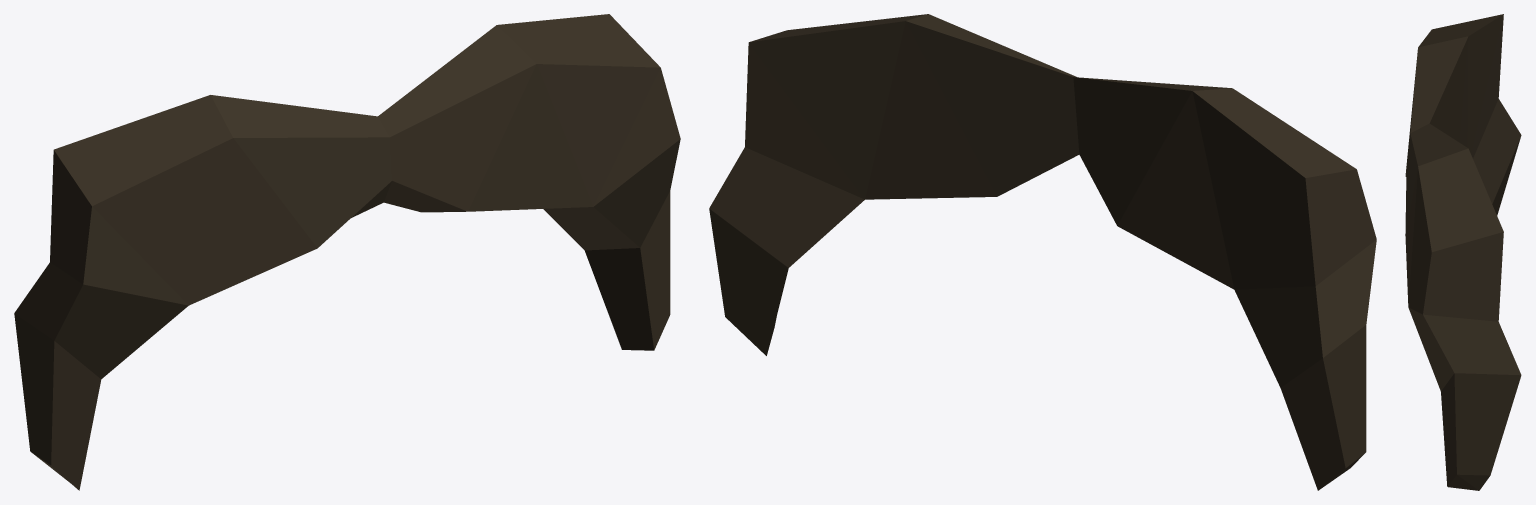
The model's file is SM_Chr_Attach_Beard_06_Mustache.fbx.
The picture shows the model from 3 angles, left to right: view 1: azimuth 30°, elevation 25°; view 2: azimuth 150°, elevation 25°; view 3: azimuth 270°, elevation 25°; orthographic projection. The views are drawn at different scales.
Visible parts, largest first — view 1: SM_Chr_Attach_Beard_06_Mustache; view 2: SM_Chr_Attach_Beard_06_Mustache; view 3: SM_Chr_Attach_Beard_06_Mustache.
Part boxes in pixels (left/top/right/bottom): SM_Chr_Attach_Beard_06_Mustache: left=14, top=14, right=680, bottom=490; SM_Chr_Attach_Beard_06_Mustache: left=709, top=14, right=1376, bottom=490; SM_Chr_Attach_Beard_06_Mustache: left=1405, top=14, right=1521, bottom=490.
Bounding box in the file's own units: 17.86 × 9.98 × 3.61.
